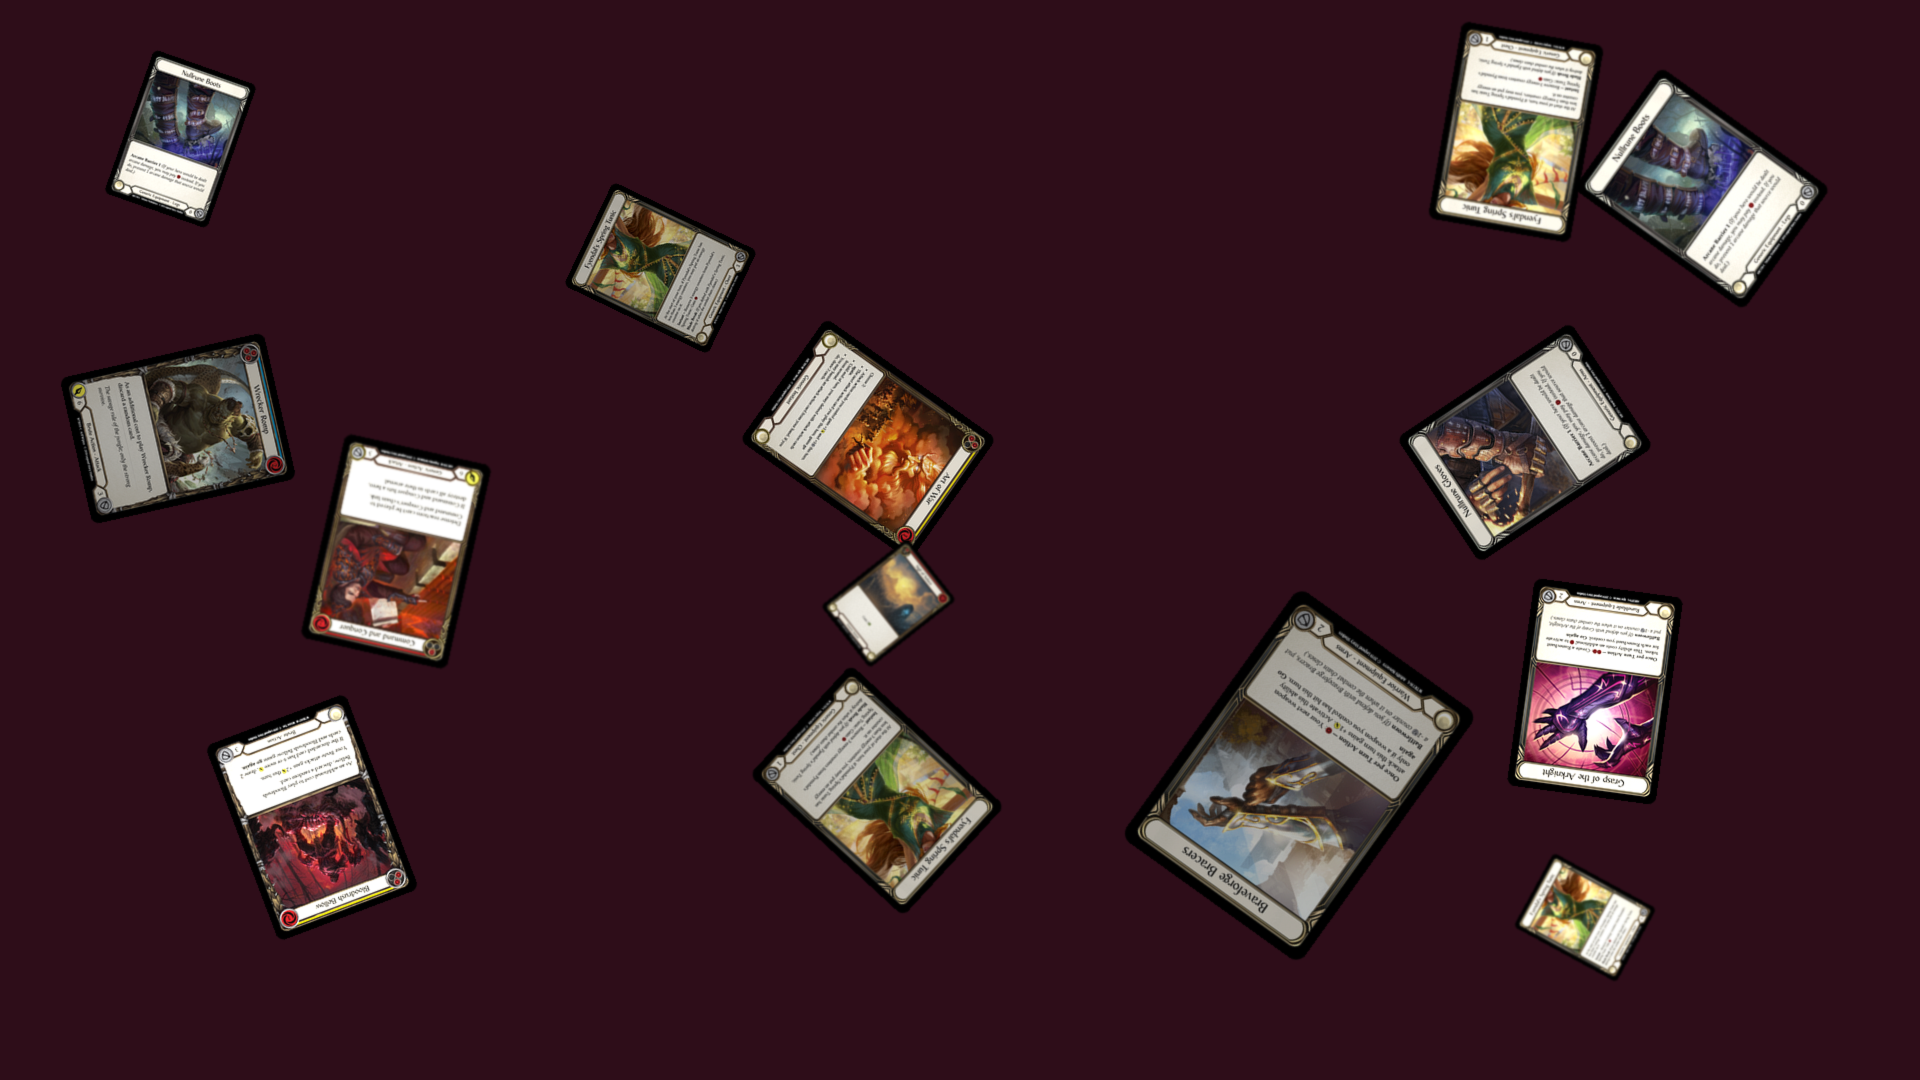Art_of_War_ARC160: (738, 316, 997, 562)
Bloodrush_Bellow_WTR007: (204, 694, 419, 942)
Braveforge_Bracers_WTR116: (1120, 585, 1478, 965)
Command_and_Conquer_ARC159: (299, 433, 493, 670)
Fyendals_Spring_Tunic_WTR150: (749, 665, 1005, 916), (1427, 21, 1605, 243), (563, 181, 758, 355), (1513, 852, 1658, 982)
Grasp_of_the_Arknight_ARC078: (1506, 578, 1684, 806)
Nullrune_Boots_ARC158: (1573, 66, 1832, 311), (103, 49, 258, 229)
Nullrune_Gloves_ARC157: (1396, 322, 1654, 563)
Sigil_of_Solace_WTR173: (820, 537, 957, 669)
Wrecker_Romp_WTR031: (59, 332, 297, 525)
